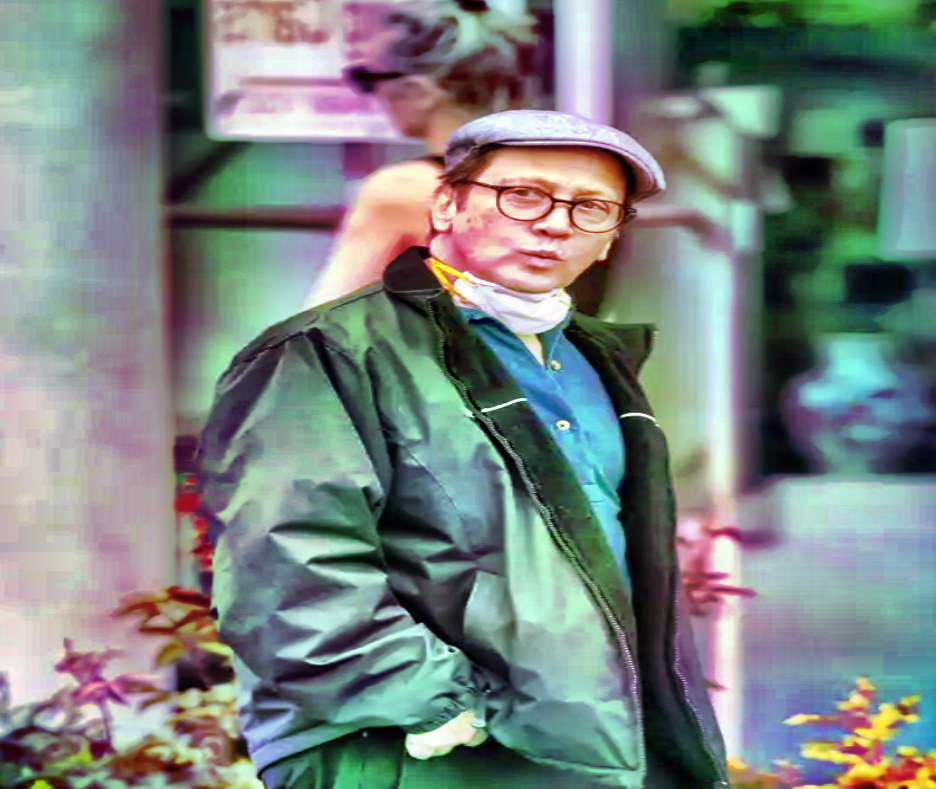mask_weared_incorrect: (403, 104, 667, 339)
